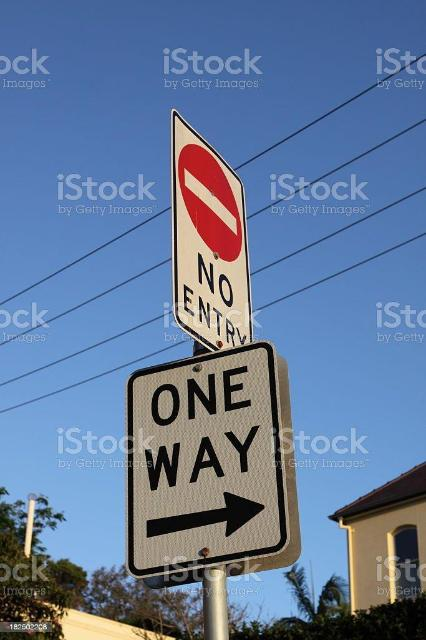B2: (182, 144, 244, 260)
